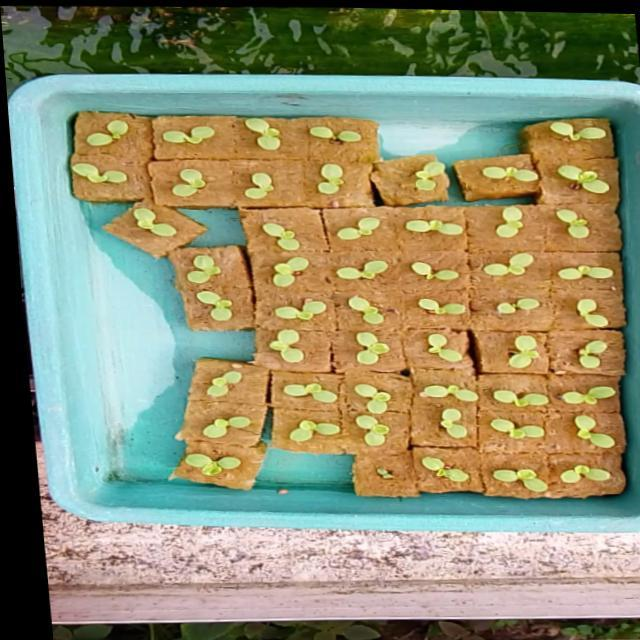Baby: (128, 202, 188, 245), (535, 203, 602, 238), (72, 114, 138, 147), (92, 149, 148, 180), (284, 377, 340, 406), (253, 256, 309, 285), (272, 291, 324, 321), (423, 331, 470, 363), (580, 339, 624, 373), (485, 298, 549, 320), (497, 468, 551, 492), (424, 455, 472, 482), (182, 247, 219, 282), (579, 414, 618, 447), (151, 125, 214, 145), (185, 450, 242, 472), (270, 326, 306, 360), (510, 334, 544, 369), (561, 385, 623, 404), (483, 251, 534, 274), (244, 117, 280, 149), (356, 381, 393, 412), (261, 219, 299, 249), (358, 329, 391, 363), (409, 259, 462, 280), (358, 411, 391, 443), (204, 412, 252, 434), (348, 294, 384, 323), (337, 258, 388, 278), (496, 388, 552, 406), (422, 384, 481, 401), (561, 464, 612, 483), (174, 167, 207, 196), (208, 367, 243, 394), (291, 422, 340, 441), (576, 298, 609, 326), (495, 206, 524, 236), (418, 296, 466, 314), (558, 263, 614, 278), (317, 161, 344, 192), (197, 297, 233, 320), (443, 408, 470, 438), (245, 170, 273, 197), (345, 215, 377, 238), (504, 422, 546, 437)
